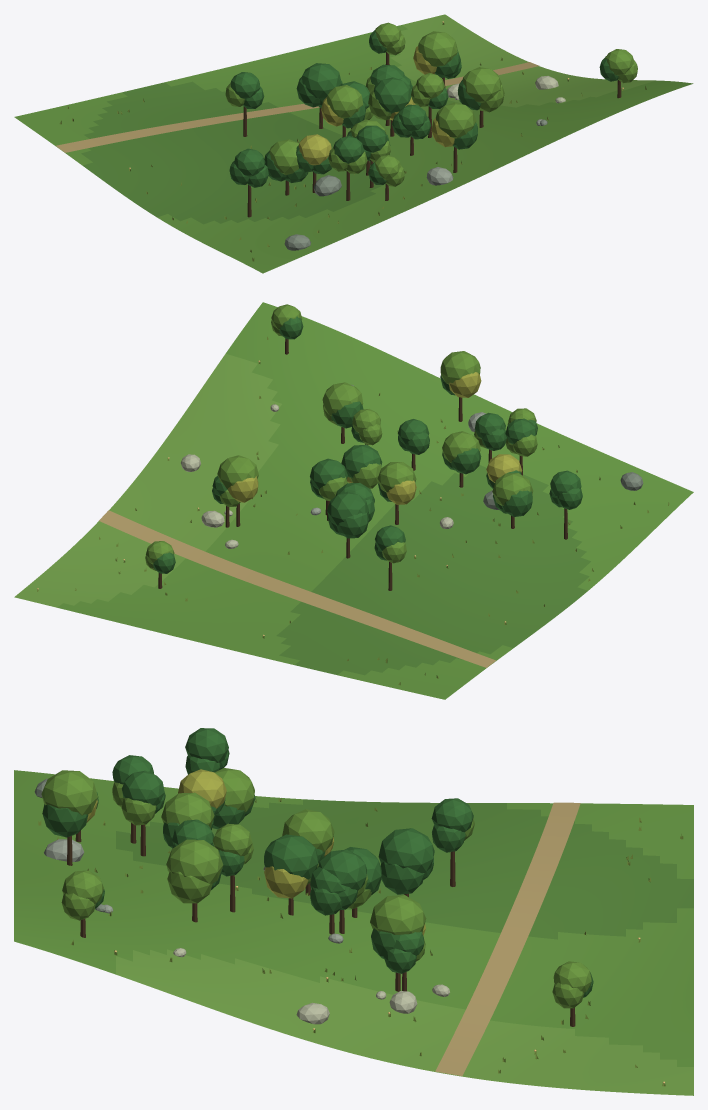
The model's file is Chunk_X2_Y0_Z-1.fbx.
The picture shows the model from 3 angles, top to bottom: view 1: azimuth 30°, elevation 25°; view 2: azimuth 150°, elevation 25°; view 3: azimuth 270°, elevation 25°; orthographic projection. The views are drawn at different scales.
Visible parts, largest first — view 1: Terrain.037, Canopies.036, Path.005, Rocks.037, Trunks.036; view 2: Terrain.037, Canopies.036, Path.005, Rocks.037, Trunks.036; view 3: Terrain.037, Canopies.036, Path.005, Rocks.037, Trunks.036, GroundCover.037.
Part boxes in pixels (x1=…): Terrain.037: x1=14, y1=14, x2=693, y2=273; Canopies.036: x1=225, y1=22, x2=637, y2=187; Path.005: x1=56, y1=62, x2=539, y2=152; Rocks.037: x1=284, y1=76, x2=565, y2=250; Trunks.036: x1=243, y1=52, x2=621, y2=217; Terrain.037: x1=14, y1=302, x2=693, y2=699; Canopies.036: x1=145, y1=304, x2=582, y2=573; Path.005: x1=99, y1=510, x2=495, y2=667; Rocks.037: x1=181, y1=384, x2=643, y2=548; Trunks.036: x1=158, y1=338, x2=567, y2=590; Terrain.037: x1=14, y1=770, x2=693, y2=1095; Canopies.036: x1=41, y1=728, x2=593, y2=1008; Path.005: x1=435, y1=802, x2=580, y2=1075; Rocks.037: x1=34, y1=778, x2=449, y2=1024; Trunks.036: x1=67, y1=823, x2=575, y2=1026; GroundCover.037: x1=38, y1=798, x2=683, y2=1086.
Size of the model in its own units: 100 by 31.09 by 100.
